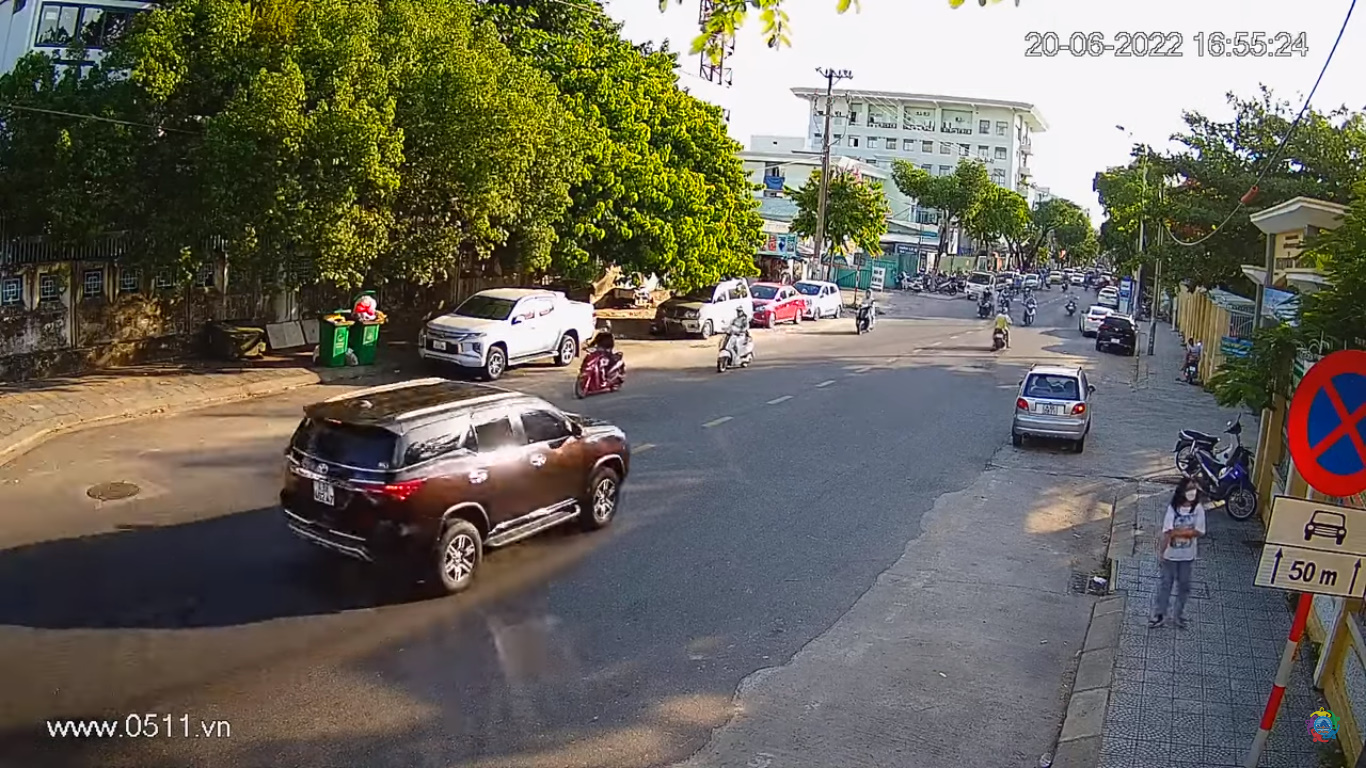car: (287, 392, 627, 571)
